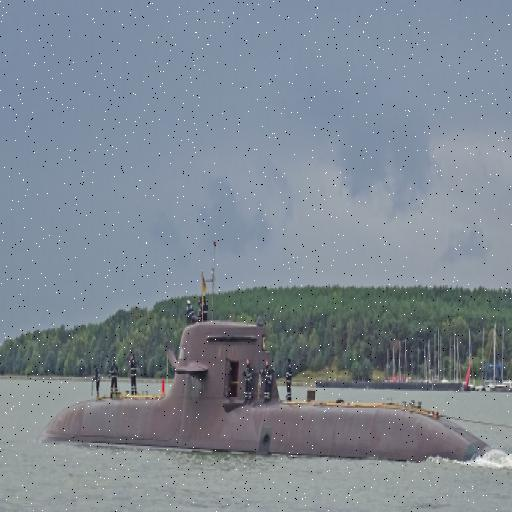submarine: (45, 323, 512, 465)
